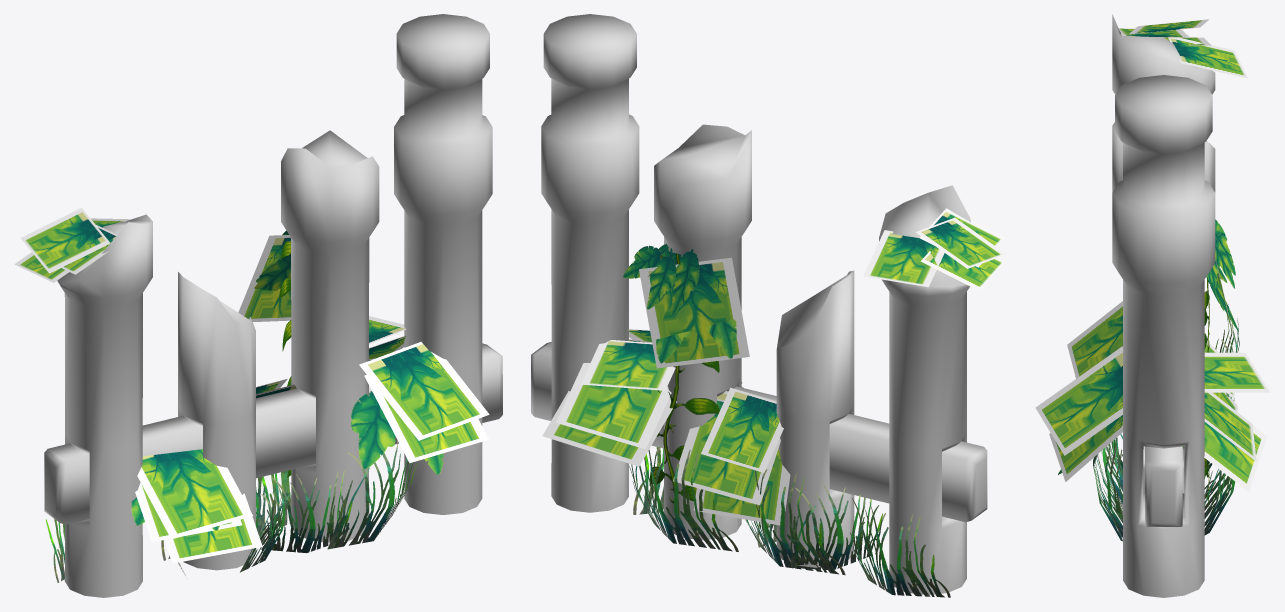
Rendered from SM_FenceDestroyed.fbx.
3 renders of one model, left to right at view 1: azimuth 30°, elevation 25°; view 2: azimuth 150°, elevation 25°; view 3: azimuth 270°, elevation 25°, orthographic. The views are drawn at different scales.
Parts seen in each view (by area): view 1: FenceDestroyedMesh; view 2: FenceDestroyedMesh; view 3: FenceDestroyedMesh.
Boxes of the visible parts, x1=… form: FenceDestroyedMesh: x1=14, y1=14, x2=502, y2=597; FenceDestroyedMesh: x1=531, y1=14, x2=1006, y2=597; FenceDestroyedMesh: x1=1035, y1=14, x2=1270, y2=597.
Bounding box in the file's own units: 406 × 394 × 171.
